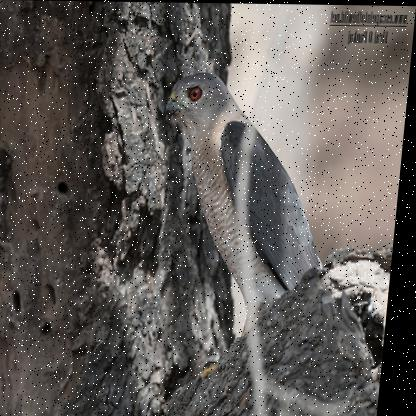Burung: (147, 71, 344, 371)
